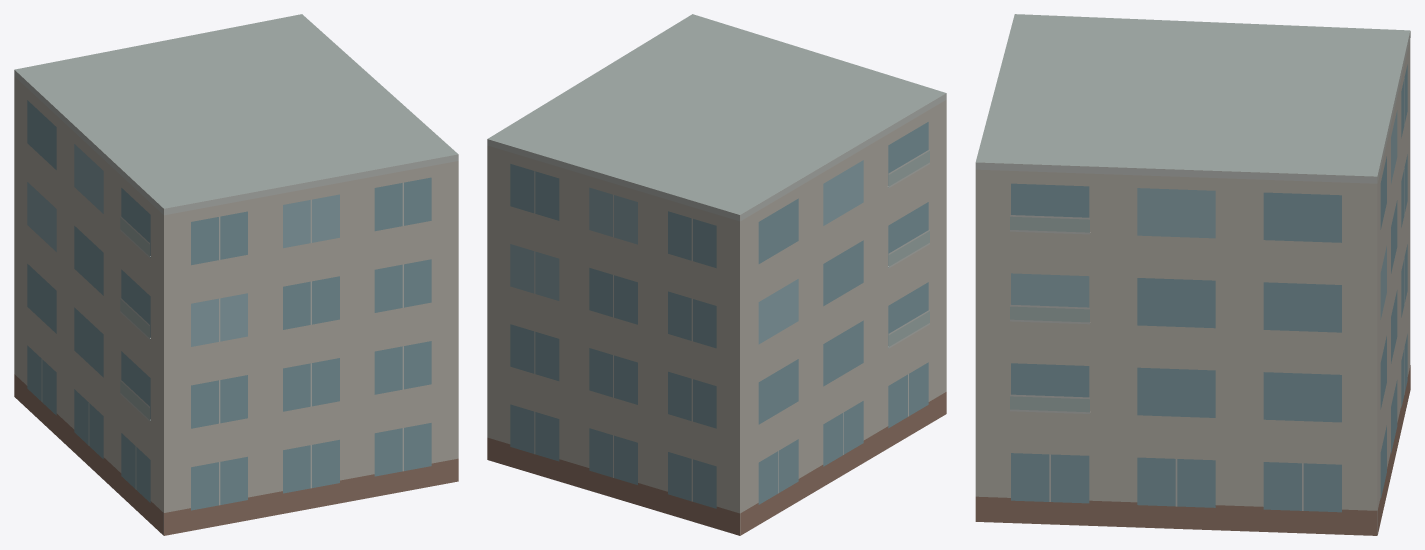
The model's file is survey-upis-32807041.glb.
The picture shows the model from 3 angles, left to right: view 1: azimuth 30°, elevation 25°; view 2: azimuth 150°, elevation 25°; view 3: azimuth 270°, elevation 25°; orthographic projection. The views are drawn at different scales.
Parts seen in each view (by area): view 1: survey-upis-32807041.tmp; view 2: survey-upis-32807041.tmp; view 3: survey-upis-32807041.tmp.
Part boxes in pixels (x1,y1,x2,y2): survey-upis-32807041.tmp: (14, 14, 458, 535); survey-upis-32807041.tmp: (487, 14, 946, 535); survey-upis-32807041.tmp: (975, 14, 1410, 535).
Bounding box in the file's own units: 11.85 × 12.2 × 13.39.
